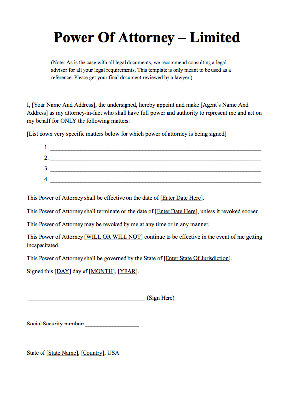textline: (49, 152, 263, 164), (49, 162, 264, 173), (50, 141, 262, 152), (49, 174, 264, 184), (26, 290, 147, 304), (85, 316, 142, 328)
